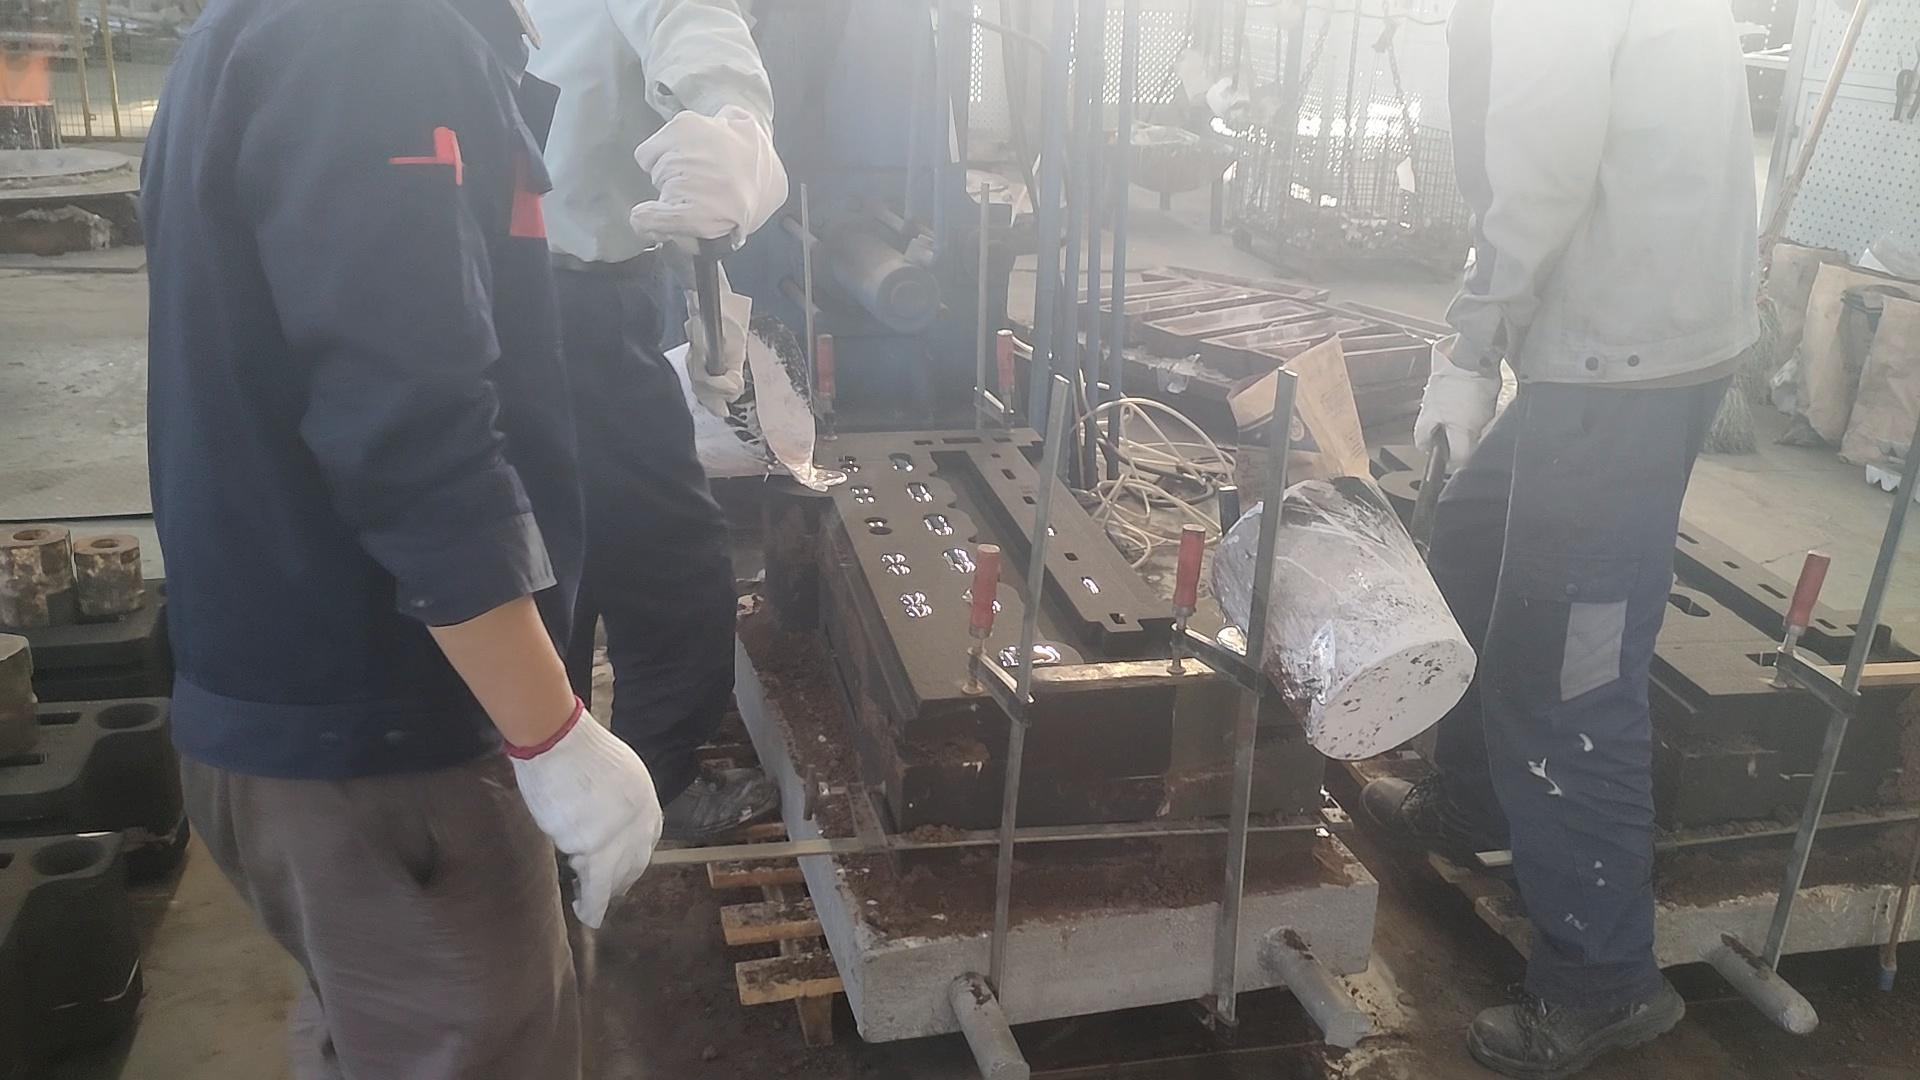pouring hole: (32, 837, 104, 876), (92, 702, 162, 731), (1217, 624, 1278, 657), (789, 465, 844, 487), (156, 579, 185, 601)
